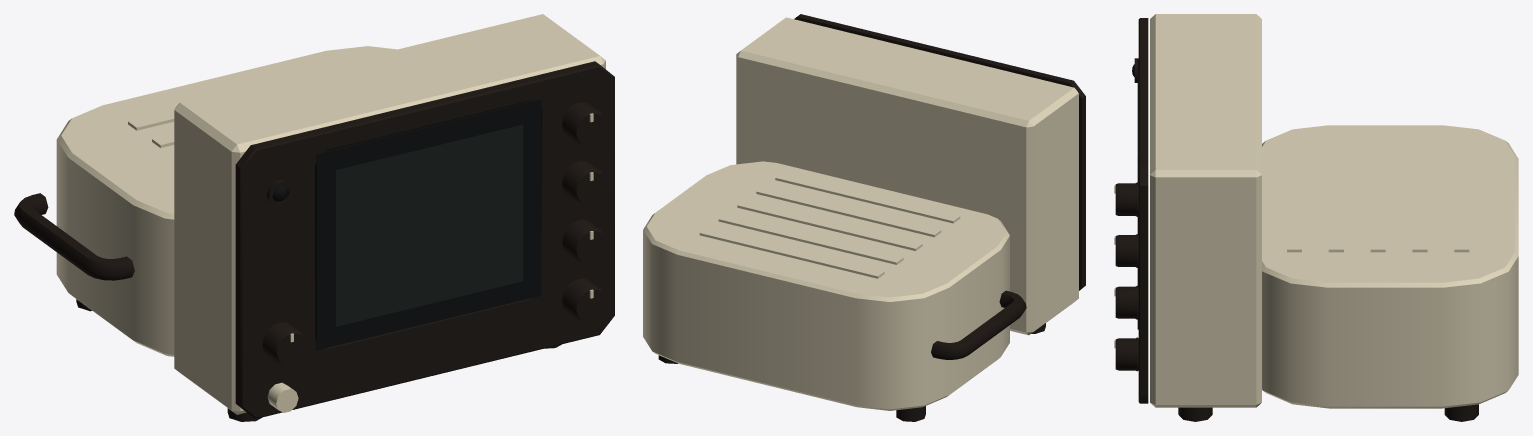
Rendered from oscillograph.glb.
3 renders of one model, left to right at view 1: azimuth 30°, elevation 25°; view 2: azimuth 150°, elevation 25°; view 3: azimuth 270°, elevation 25°, orthographic. The views are drawn at different scales.
Visible parts, largest first — view 1: oscillograph, osc_screen; view 2: oscillograph; view 3: oscillograph.
Part boxes in pixels (x1=…): oscillograph: x1=14, y1=14, x2=614, y2=421; osc_screen: x1=336, y1=124, x2=523, y2=326; oscillograph: x1=643, y1=14, x2=1085, y2=421; oscillograph: x1=1114, y1=14, x2=1518, y2=421.
Bounding box in the file's own units: 0.221 × 0.15 × 0.2128.
